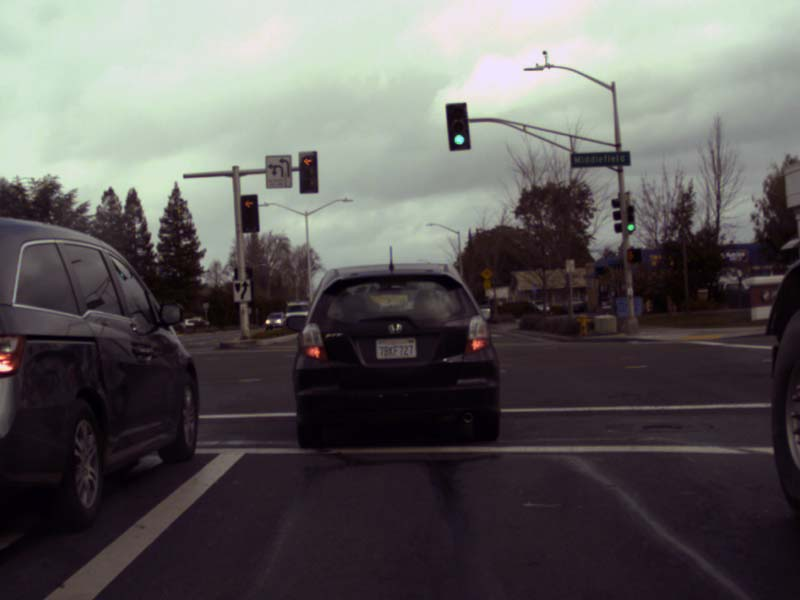Green: (446, 104, 467, 148), (626, 205, 634, 231)
Red: (299, 152, 317, 192), (241, 195, 258, 231)
